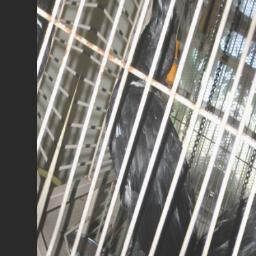Crow: (69, 0, 256, 256)
